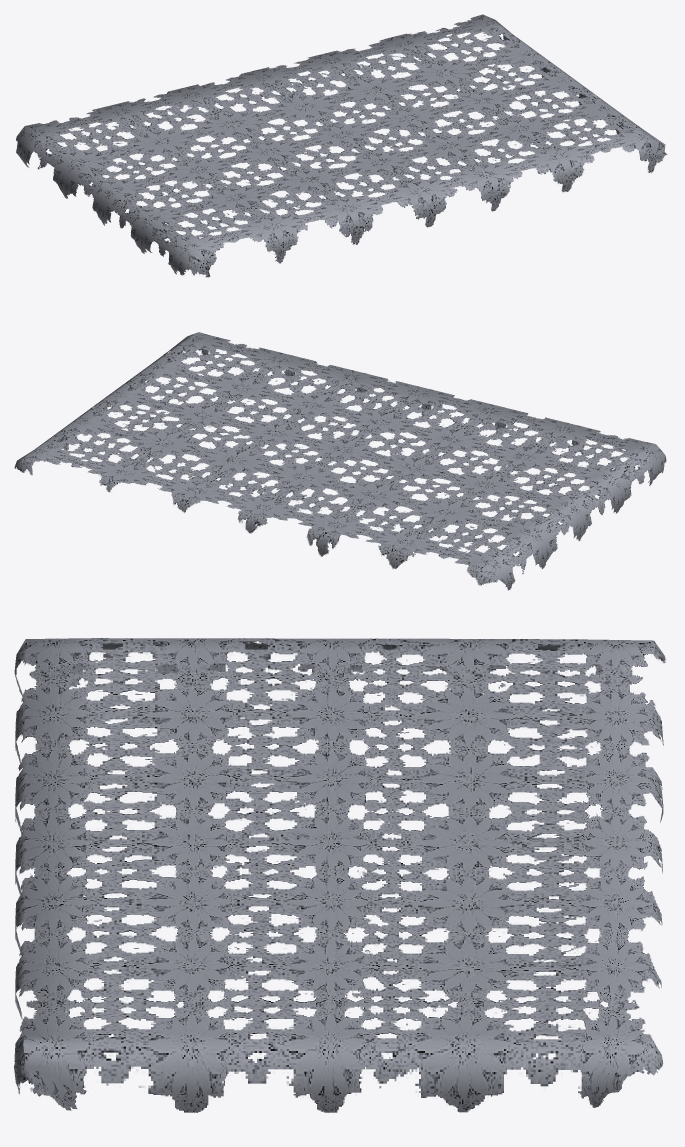
File: TableCloth.glb
The picture shows the model from 3 angles, top to bottom: view 1: azimuth 30°, elevation 25°; view 2: azimuth 150°, elevation 25°; view 3: azimuth 270°, elevation 25°; orthographic projection. The views are drawn at different scales.
Visible parts, largest first — view 1: TableCloth; view 2: TableCloth; view 3: TableCloth.
Boxes of the visible parts, box(x1,y1,x2,y2) form: TableCloth: box(16, 14, 667, 277); TableCloth: box(14, 332, 666, 590); TableCloth: box(14, 638, 665, 1112).
Bounding box in the file's own units: 1.34 × 0.1247 × 0.8565.
1 material, 1 textured.
